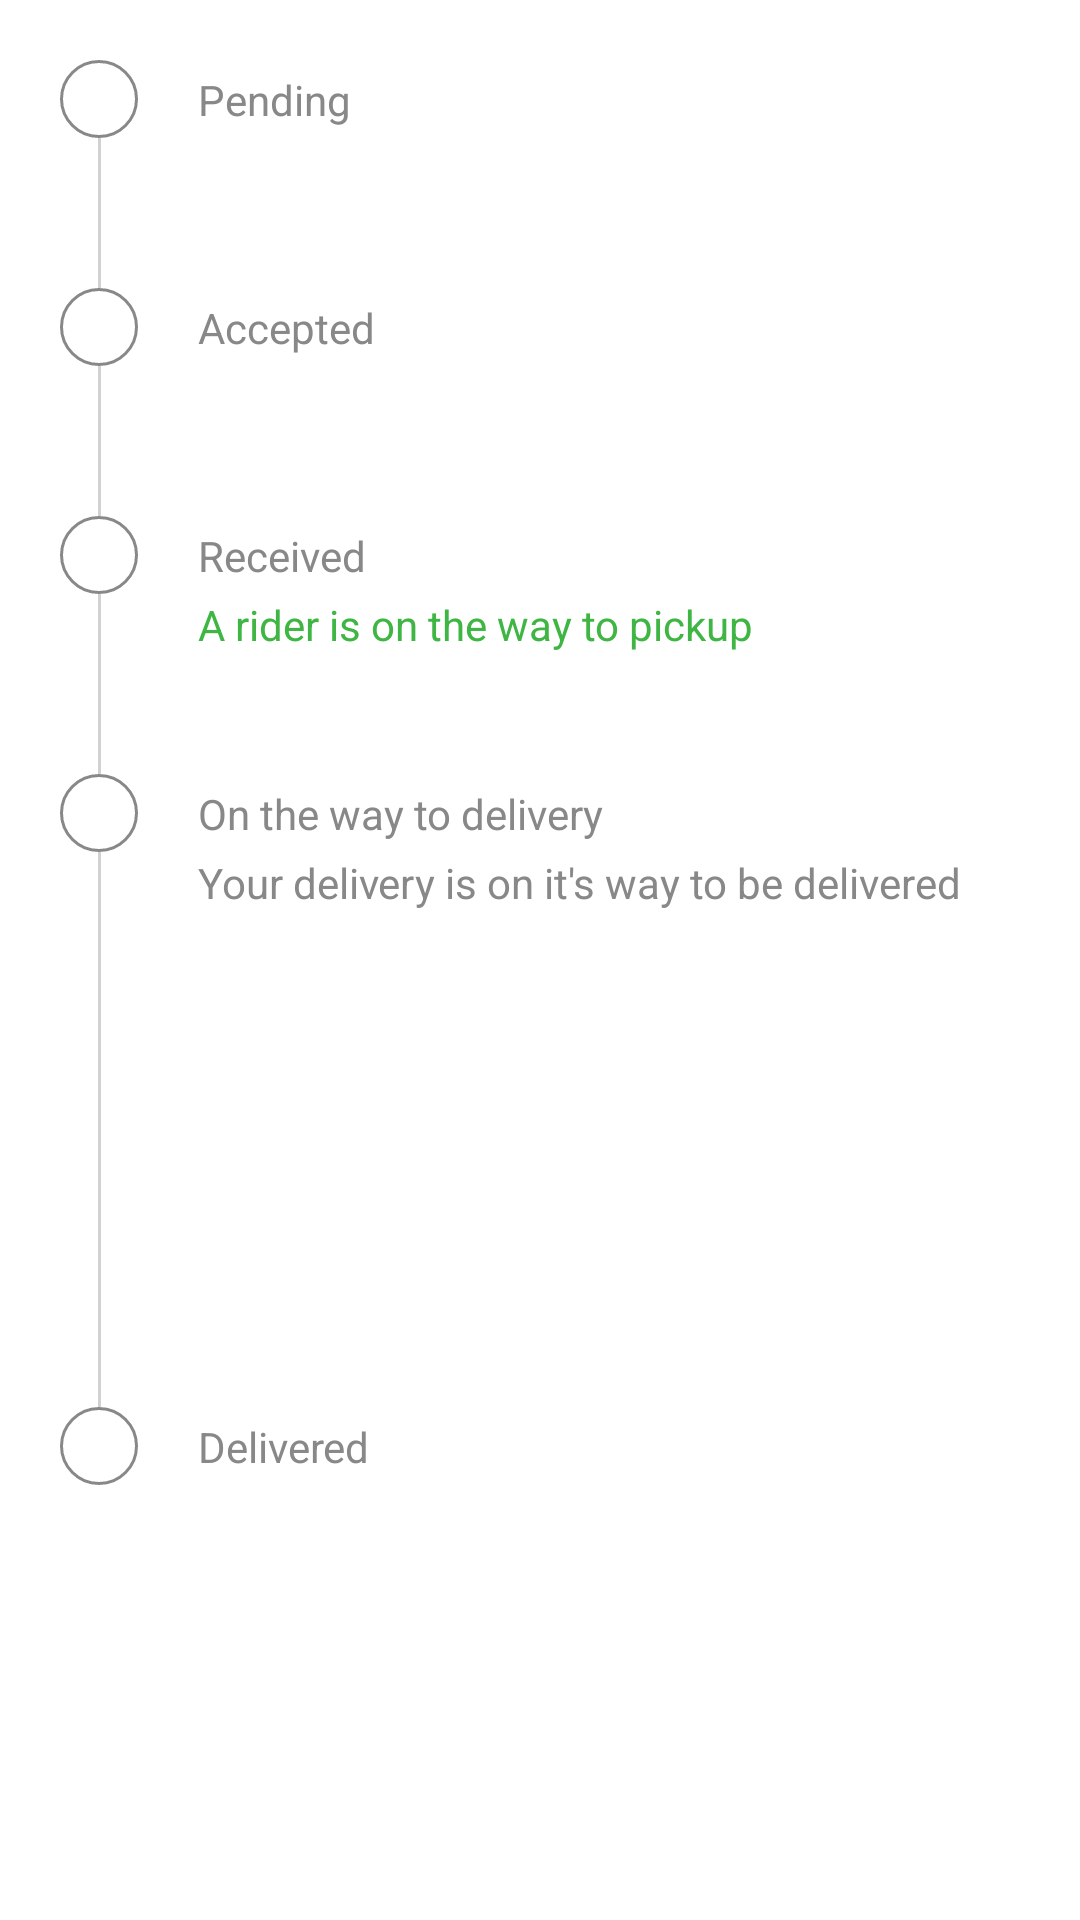

Icons on this 1080 x 1920 Android screen, each with its box as [left=x1, top=y1, right=x2, bottom=y2]:
stepview incomplete: [left=60, top=60, right=138, bottom=138], [left=60, top=288, right=138, bottom=366], [left=60, top=516, right=138, bottom=594], [left=60, top=774, right=138, bottom=852], [left=60, top=1407, right=138, bottom=1485]
